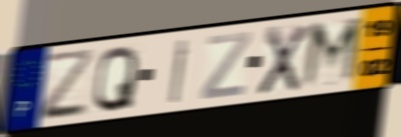I: (168, 36, 192, 106)
M: (298, 14, 365, 92)
Q: (91, 43, 140, 115)
X: (255, 22, 312, 97)
Z: (40, 46, 96, 124), (199, 29, 254, 102)
